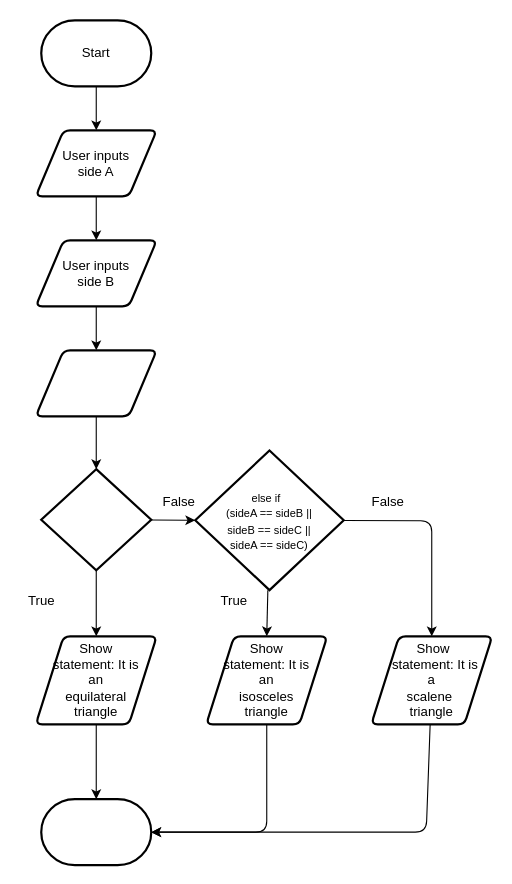
This 512x884 diagram has some shape labels left out. Each missing label, with the centre of its shape:
"if (sideA == sideB && sideB == sideC)" goes at [96,519].
"Stop" goes at [96,832].
"User inputs side C" goes at [95,383].
